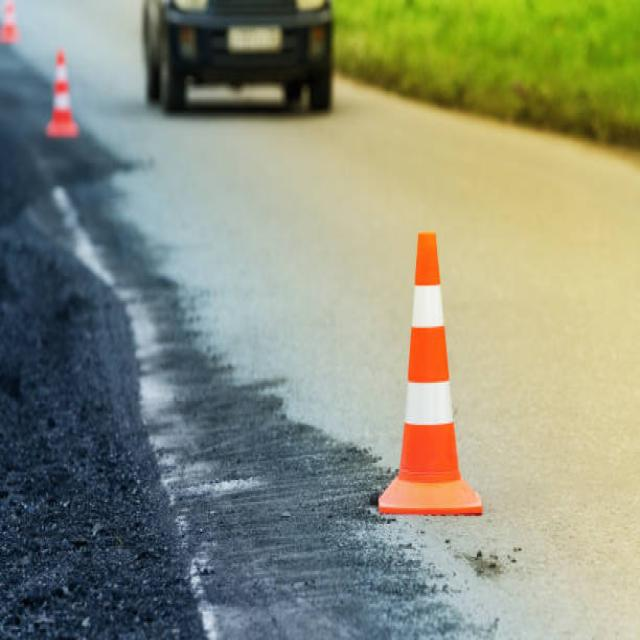Traffic Cone: (365, 192, 494, 533)
